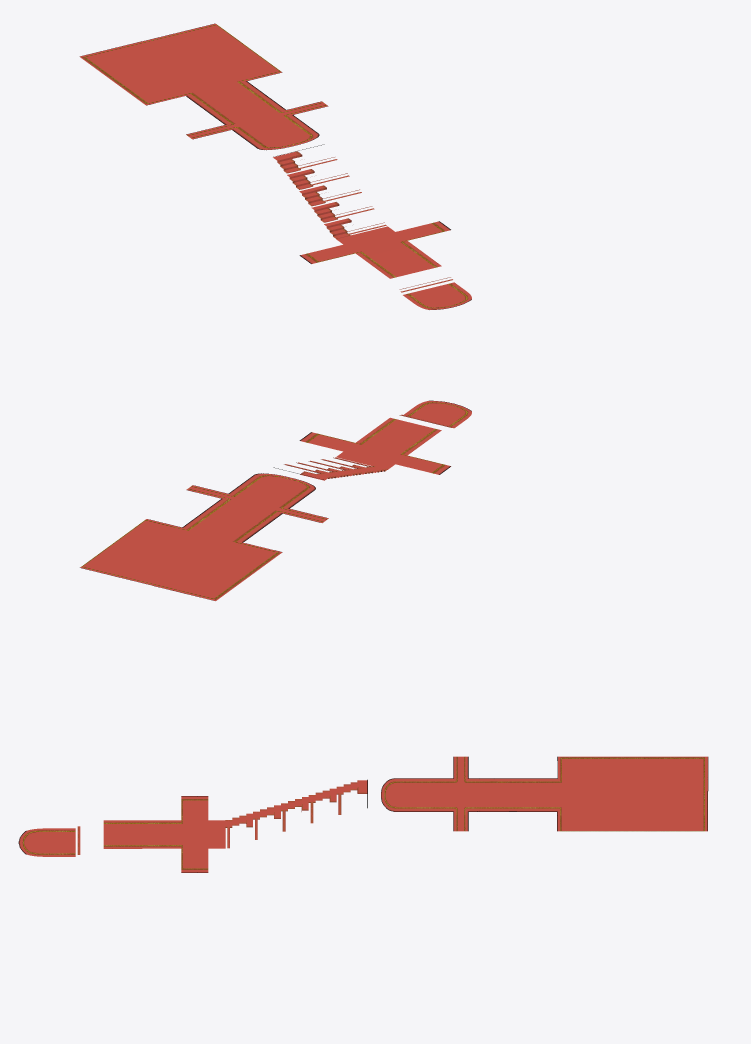
File: Suelo_3 1.fbx
3 views of the same model, one above another, from view 1: azimuth 30°, elevation 25°; view 2: azimuth 150°, elevation 25°; view 3: azimuth 270°, elevation 25° (orthographic). The views are drawn at different scales.
Visible parts, largest first — view 1: Cube.016; view 2: Cube.016; view 3: Cube.016.
Boxes of the visible parts, x1=… form: Cube.016: x1=79, y1=23, x2=471, y2=309; Cube.016: x1=80, y1=400, x2=471, y2=600; Cube.016: x1=18, y1=756, x2=708, y2=872.
Bounding box in the file's own units: 5384 × 312 × 4211.
Materials: 1 (1 with a texture image).
